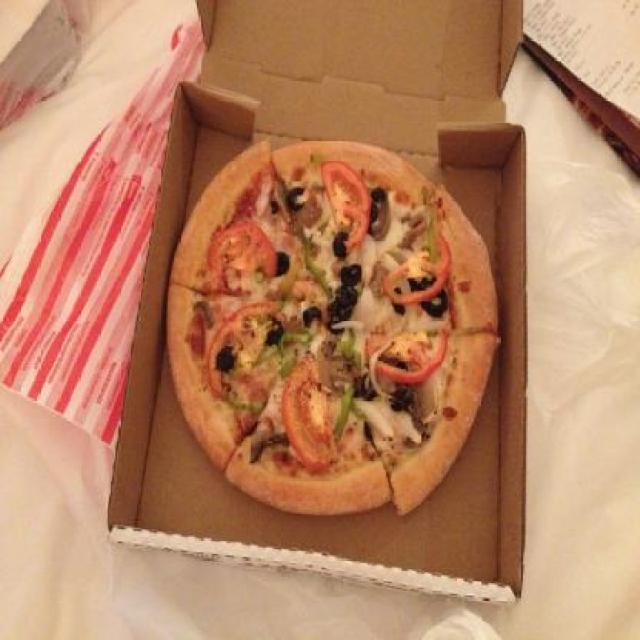Pizza: (158, 140, 494, 522)
